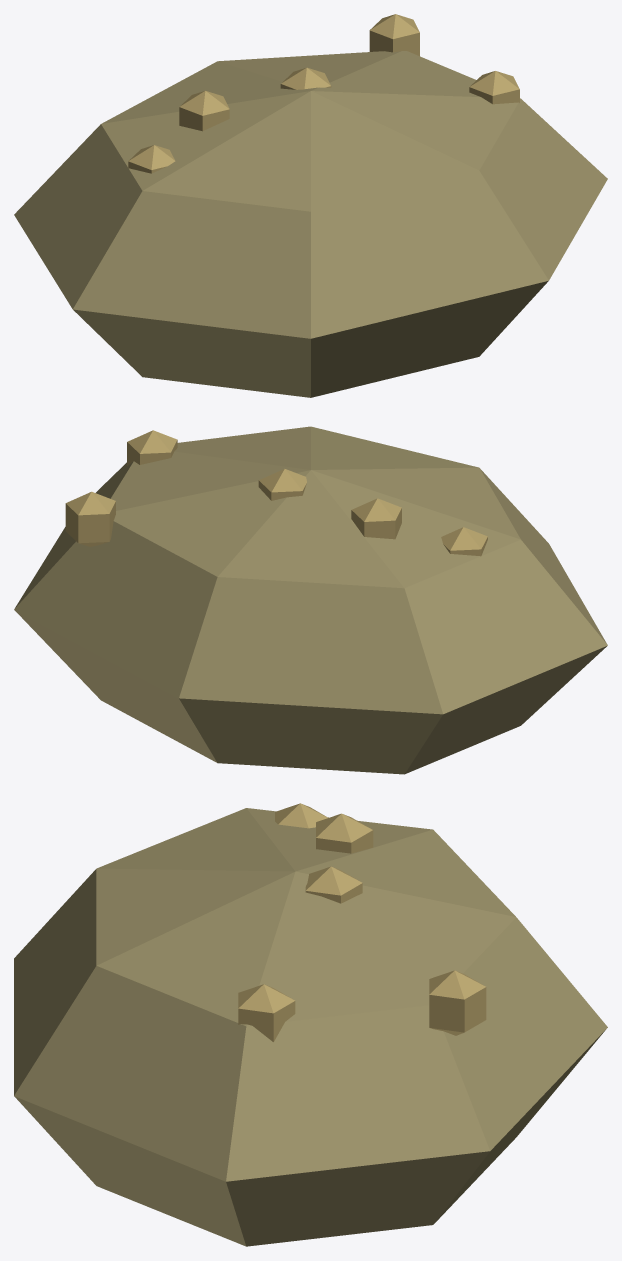
The model's file is harbor_net_pile.glb.
3 renders of one model, top to bottom at view 1: azimuth 30°, elevation 25°; view 2: azimuth 150°, elevation 25°; view 3: azimuth 270°, elevation 25°, orthographic. The views are drawn at different scales.
Parts seen in each view (by area): view 1: harbor_net_pile; view 2: harbor_net_pile; view 3: harbor_net_pile.
Part boxes in pixels (bbox=[...]): harbor_net_pile: bbox=[14, 14, 607, 397]; harbor_net_pile: bbox=[14, 426, 607, 774]; harbor_net_pile: bbox=[14, 803, 607, 1246].
Size of the model in its own units: 1.4 by 0.6843 by 1.14.
